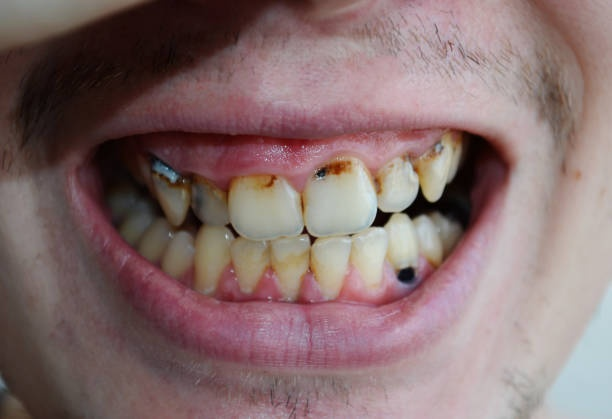Caries: (311, 145, 366, 188), (146, 154, 197, 193), (392, 258, 422, 291)
